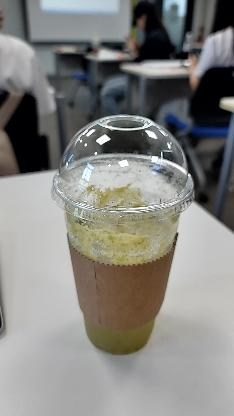Plastic Cup: (50, 113, 196, 359), (50, 113, 194, 227)
